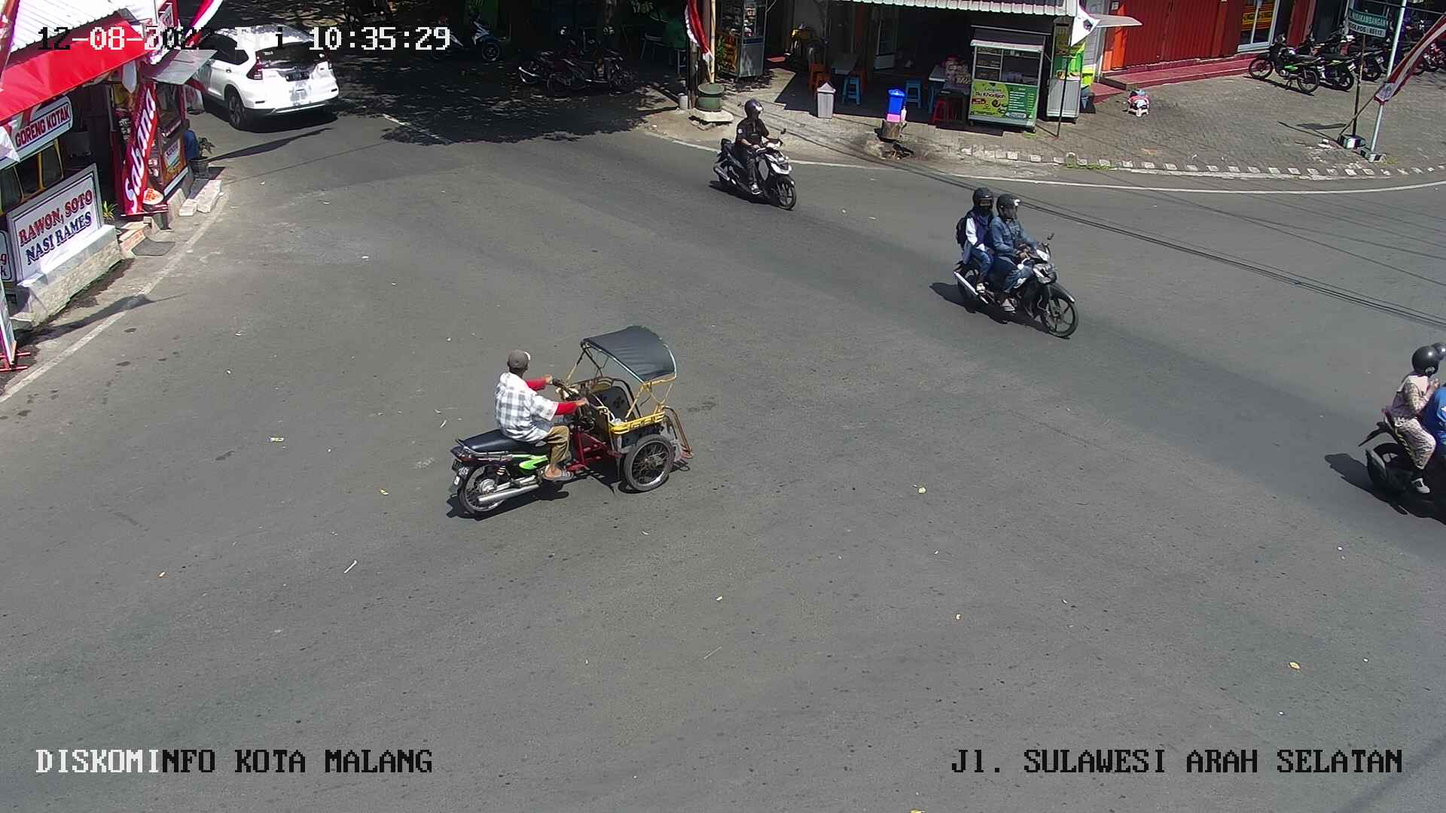with_helmet: (942, 176, 1098, 342), (1343, 337, 1446, 521), (715, 96, 808, 216)
without_helmet: (436, 317, 709, 528)
